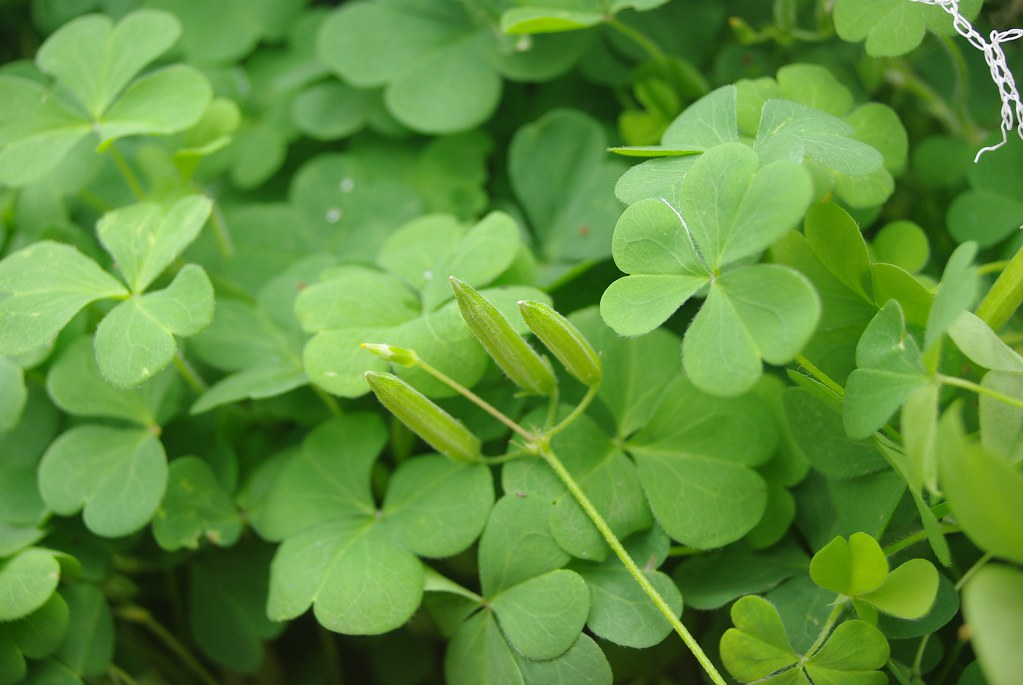oxalis: (6, 35, 1023, 649)
